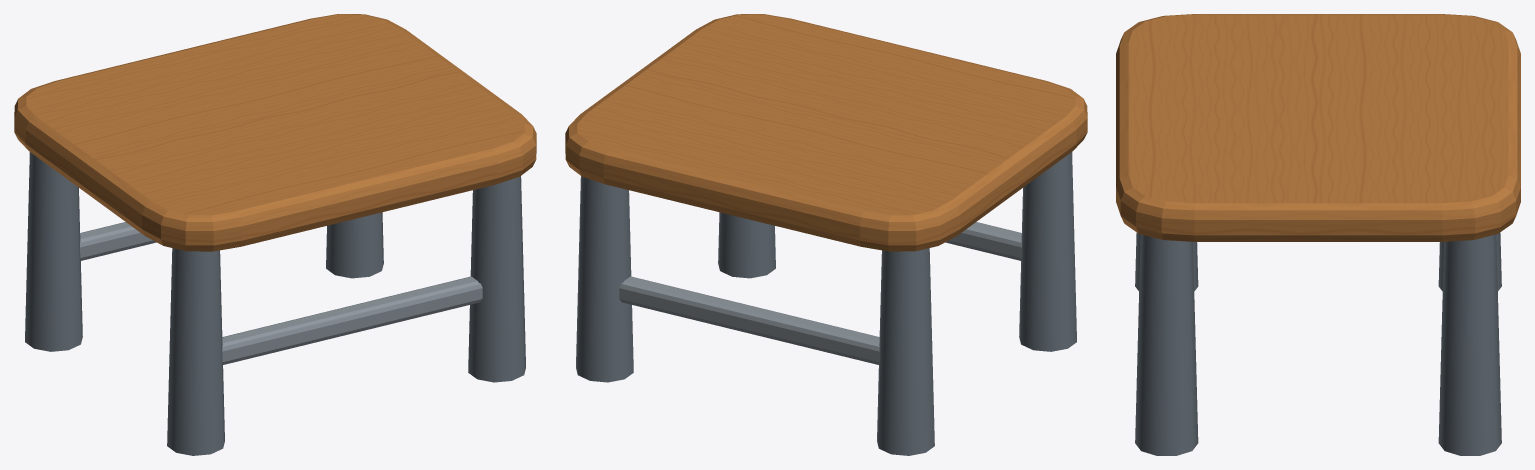
File: hive-stand.glb
3 views of the same model, side by side, from view 1: azimuth 30°, elevation 25°; view 2: azimuth 150°, elevation 25°; view 3: azimuth 270°, elevation 25° (orthographic). The views are drawn at different scales.
Size of the model in its own units: 1.12 by 0.67 by 0.96.
3 materials, 1 textured.
